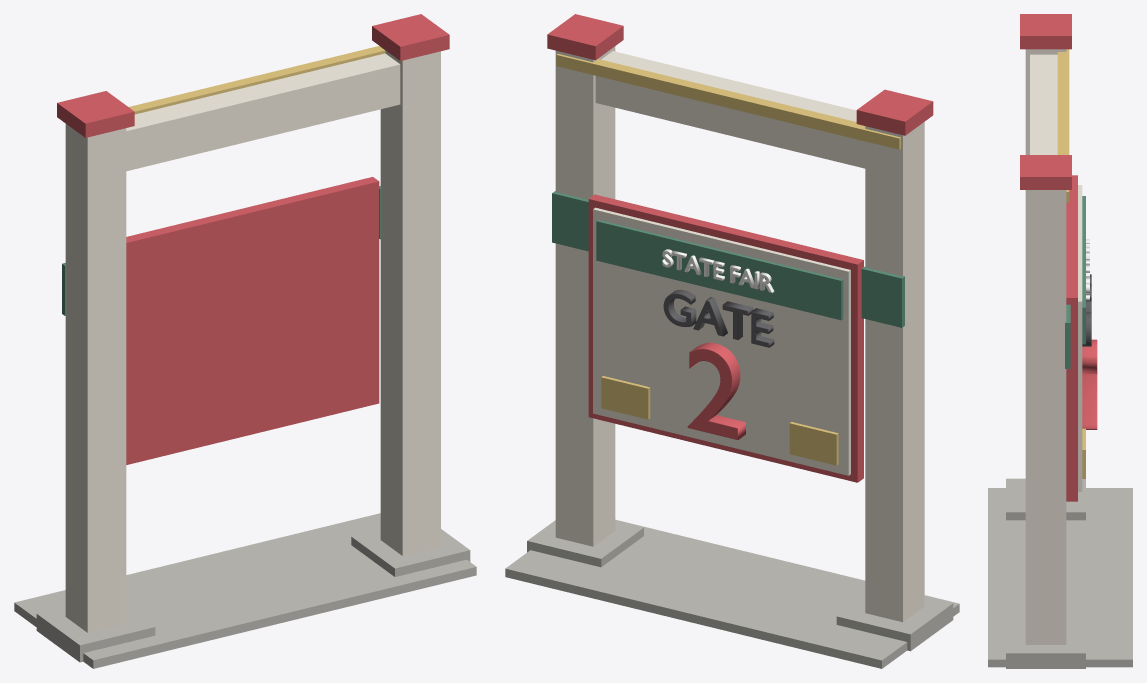
Rendered from state-fair-gate-02.glb.
The picture shows the model from 3 angles, left to right: view 1: azimuth 30°, elevation 25°; view 2: azimuth 150°, elevation 25°; view 3: azimuth 270°, elevation 25°; orthographic projection. The views are drawn at different scales.
Parts seen in each view (by area): view 1: SFG_SignBack, SFG_PostL, SFG_PostR, SFG_Pad, SFG_HeaderBeam, SFG_FootingL, SFG_FootingR, SFG_PostCapL, SFG_PostCapR, SFG_HeaderAccent; view 2: SFG_SignFace, SFG_PostL, SFG_Pad, SFG_PostR, SFG_HeaderBeam, SFG_Ribbon, SFG_SignBack, SFG_HeaderAccent, SFG_FootingL, SFG_GateNumber, SFG_GateLabel, SFG_FootingR (+7 smaller); view 3: SFG_PostR, SFG_Pad, SFG_SignBack, SFG_FootingR, SFG_HeaderBeam, SFG_PostCapL, SFG_PostCapR, SFG_SignFace, SFG_HeaderAccent, SFG_GateNumber, SFG_FootingL, SFG_PostL (+4 smaller).
Part boxes in pixels (bbox=[...]): SFG_SignBack: bbox=[126, 177, 379, 464]; SFG_PostL: bbox=[65, 124, 126, 632]; SFG_PostR: bbox=[380, 47, 440, 555]; SFG_Pad: bbox=[14, 513, 476, 668]; SFG_HeaderBeam: bbox=[126, 53, 400, 171]; SFG_FootingL: bbox=[36, 606, 155, 662]; SFG_FootingR: bbox=[351, 529, 470, 576]; SFG_PostCapL: bbox=[57, 91, 134, 137]; SFG_PostCapR: bbox=[372, 14, 449, 60]; SFG_HeaderAccent: bbox=[129, 46, 385, 114]; SFG_SignFace: bbox=[593, 207, 850, 475]; SFG_PostL: bbox=[865, 122, 924, 622]; SFG_Pad: bbox=[505, 519, 959, 668]; SFG_PostR: bbox=[555, 46, 615, 546]; SFG_HeaderBeam: bbox=[595, 51, 865, 168]; SFG_Ribbon: bbox=[596, 220, 843, 320]; SFG_SignBack: bbox=[588, 194, 863, 482]; SFG_HeaderAccent: bbox=[556, 54, 900, 149]; SFG_FootingL: bbox=[836, 596, 953, 651]; SFG_GateNumber: bbox=[687, 342, 745, 439]; SFG_GateLabel: bbox=[663, 289, 774, 347]; SFG_FootingR: bbox=[527, 520, 643, 567]; SFG_PostR: bbox=[1025, 190, 1066, 644]; SFG_Pad: bbox=[988, 488, 1132, 667]; SFG_SignBack: bbox=[1066, 175, 1077, 501]; SFG_FootingR: bbox=[1006, 619, 1085, 668]; SFG_HeaderBeam: bbox=[1030, 54, 1057, 154]; SFG_PostCapL: bbox=[1020, 14, 1071, 49]; SFG_PostCapR: bbox=[1020, 155, 1071, 189]; SFG_SignFace: bbox=[1078, 185, 1082, 491]; SFG_HeaderAccent: bbox=[1057, 49, 1069, 202]; SFG_GateNumber: bbox=[1082, 339, 1097, 429]; SFG_FootingL: bbox=[1006, 478, 1085, 520]; SFG_PostL: bbox=[1025, 49, 1066, 154].
Size of the model in its own units: 2.85 by 3.7 by 1.
